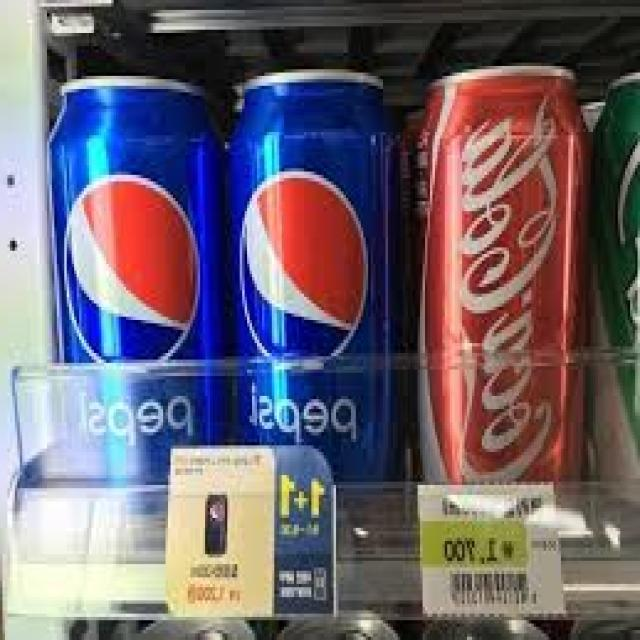Coca-Cola: (407, 60, 595, 552)
